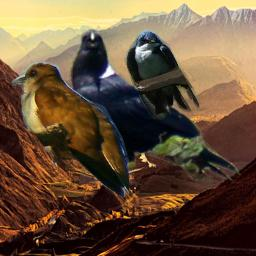Crow: (68, 29, 241, 185)
Cuckoo: (12, 62, 129, 200)
Swallow: (124, 29, 203, 123)
